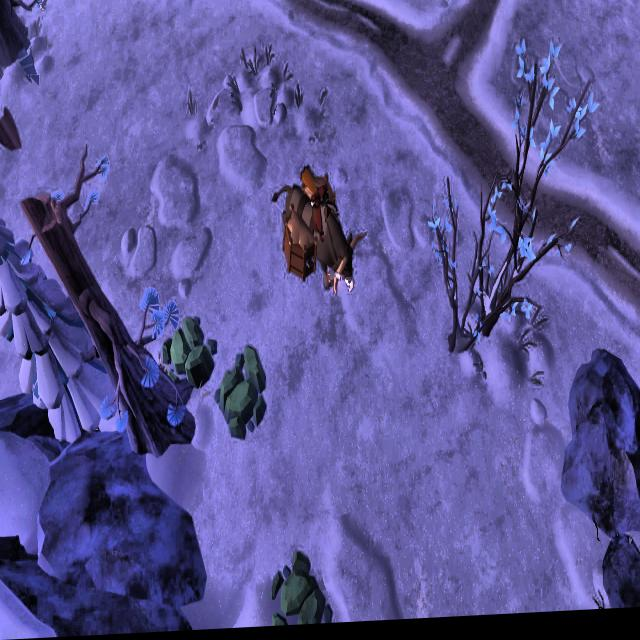rock_t3: (217, 342, 271, 443), (270, 552, 334, 629), (162, 315, 218, 395)
